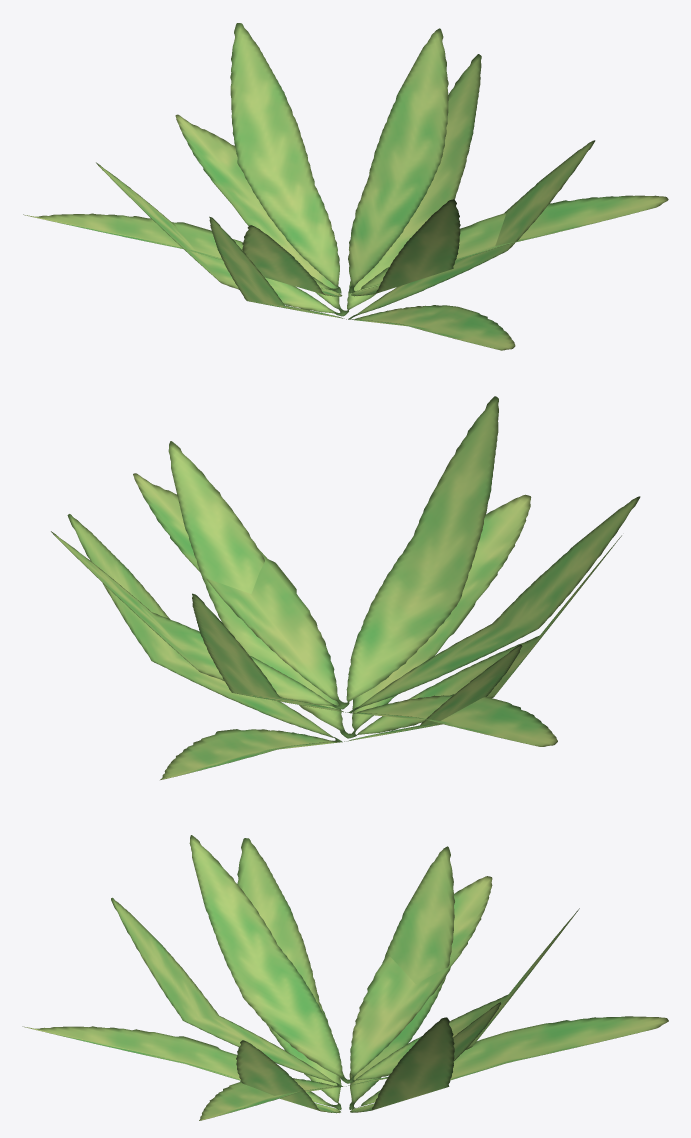
The model's file is LeafSetA_5.fbx.
3 renders of one model, top to bottom at view 1: azimuth 30°, elevation 25°; view 2: azimuth 150°, elevation 25°; view 3: azimuth 270°, elevation 25°, orthographic. The views are drawn at different scales.
Parts seen in each view (by area): view 1: LeafSetA_5; view 2: LeafSetA_5; view 3: LeafSetA_5.
Part boxes in pixels (bbox=[...]): LeafSetA_5: bbox=[23, 23, 668, 350]; LeafSetA_5: bbox=[51, 396, 640, 779]; LeafSetA_5: bbox=[22, 835, 668, 1120].
Bounding box in the file's own units: 0.594 × 0.2053 × 0.5733.
